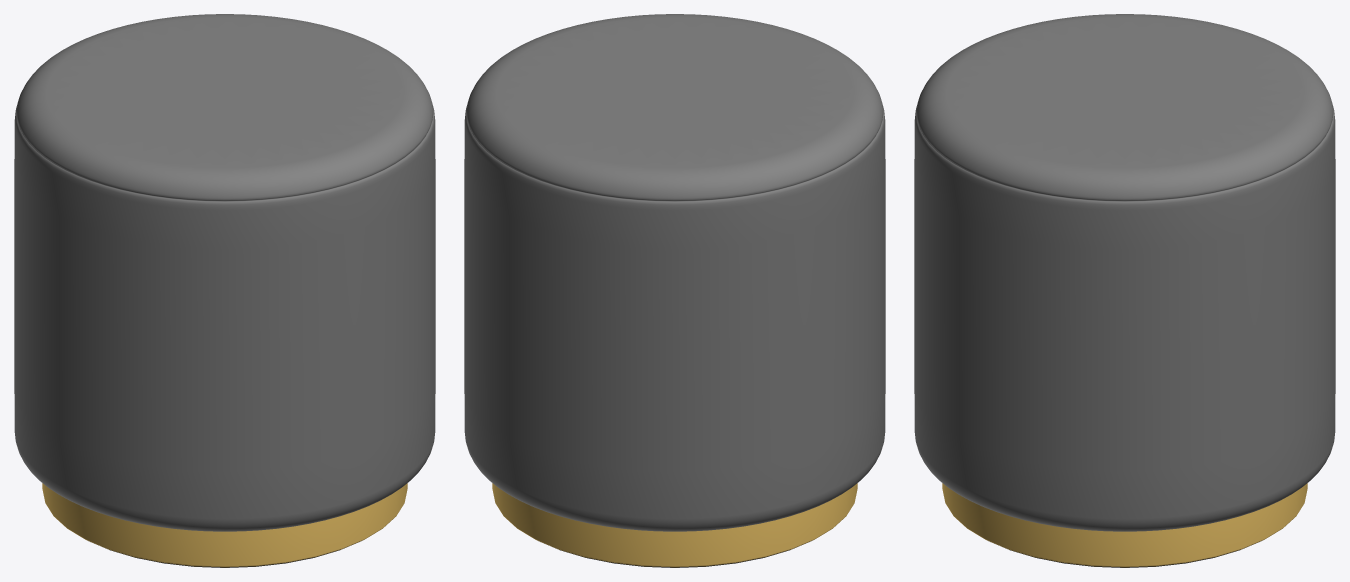
Rendered from Poof.fbx.
3 views of the same model, side by side, from view 1: azimuth 30°, elevation 25°; view 2: azimuth 150°, elevation 25°; view 3: azimuth 270°, elevation 25° (orthographic).
Parts seen in each view (by area): view 1: Cylinder003, Group002; view 2: Cylinder003, Group002; view 3: Cylinder003, Group002.
Boxes of the visible parts, left/top/right/bottom form: Cylinder003: left=14, top=14, right=435, bottom=531; Group002: left=42, top=483, right=407, bottom=567; Cylinder003: left=464, top=14, right=885, bottom=531; Group002: left=492, top=483, right=857, bottom=567; Cylinder003: left=914, top=14, right=1335, bottom=531; Group002: left=942, top=483, right=1307, bottom=567.
Bounding box in the file's own units: 438 × 459 × 438.
